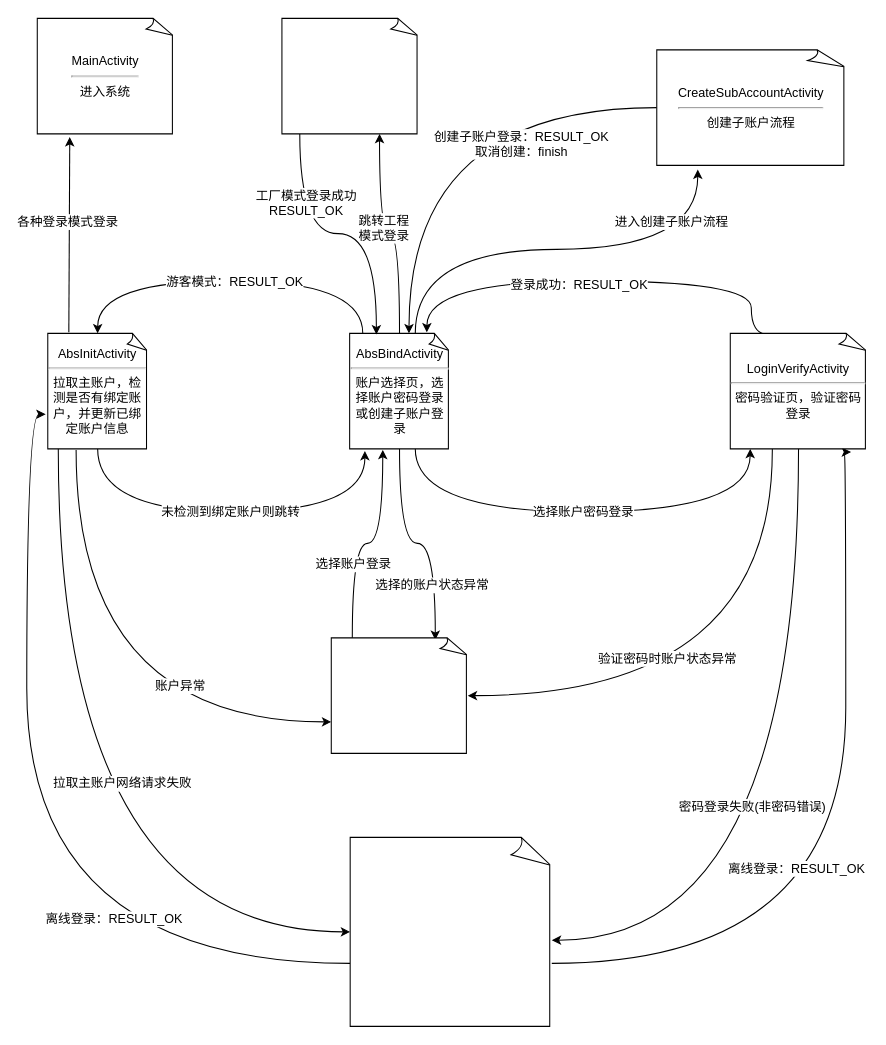
Image size: 886x1045. Some labels were removed from this diagram. Here are the shapes that lost their labels. From the top down, the centre of each, then its label:
At [349,75]: "工厂模式登录 进入系统".
At [399,695]: "InvalidActivity 账户已被禁用 账户id不存在 可跳转账户选择页".
At [450,931]: "OfflineActivity 拉取主账户，检测是否有绑定账户，并更新已绑定账户信息 离线模式：Result_ok，finish 重试：直接finish返回".
